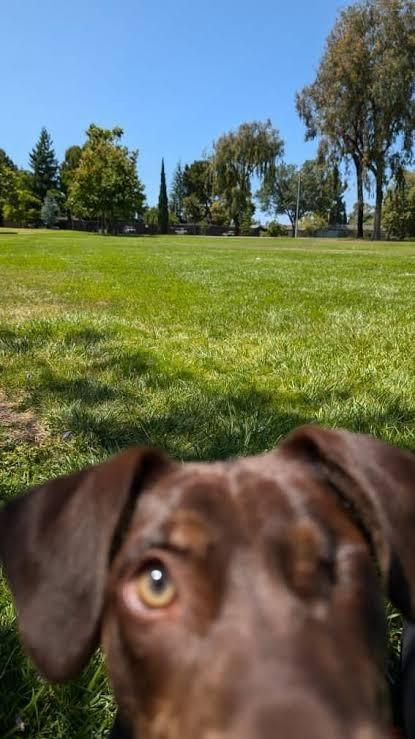adult_dog: (0, 422, 415, 739)
